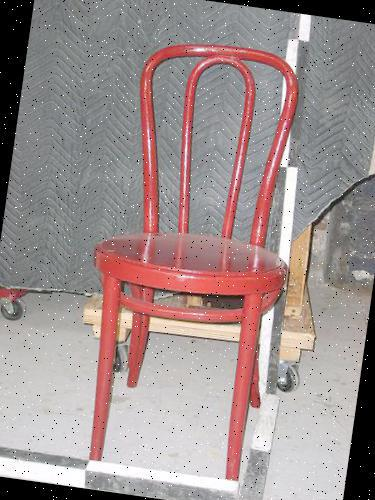Silla: (72, 30, 311, 485)
